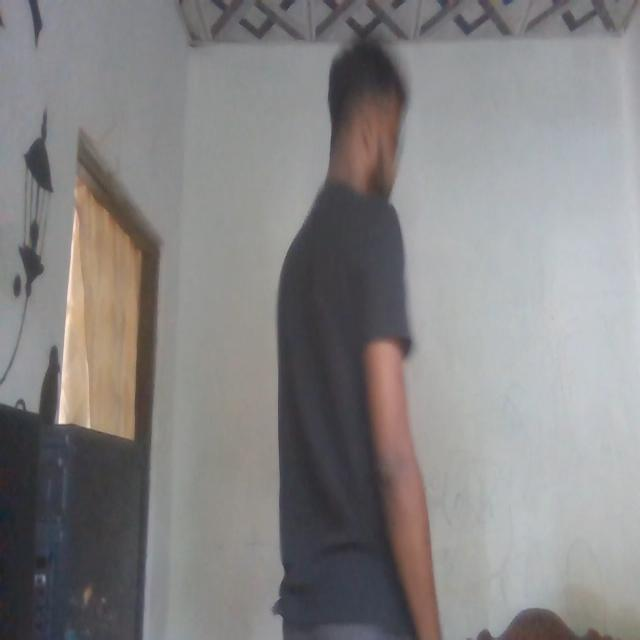Person: (272, 42, 461, 640)
